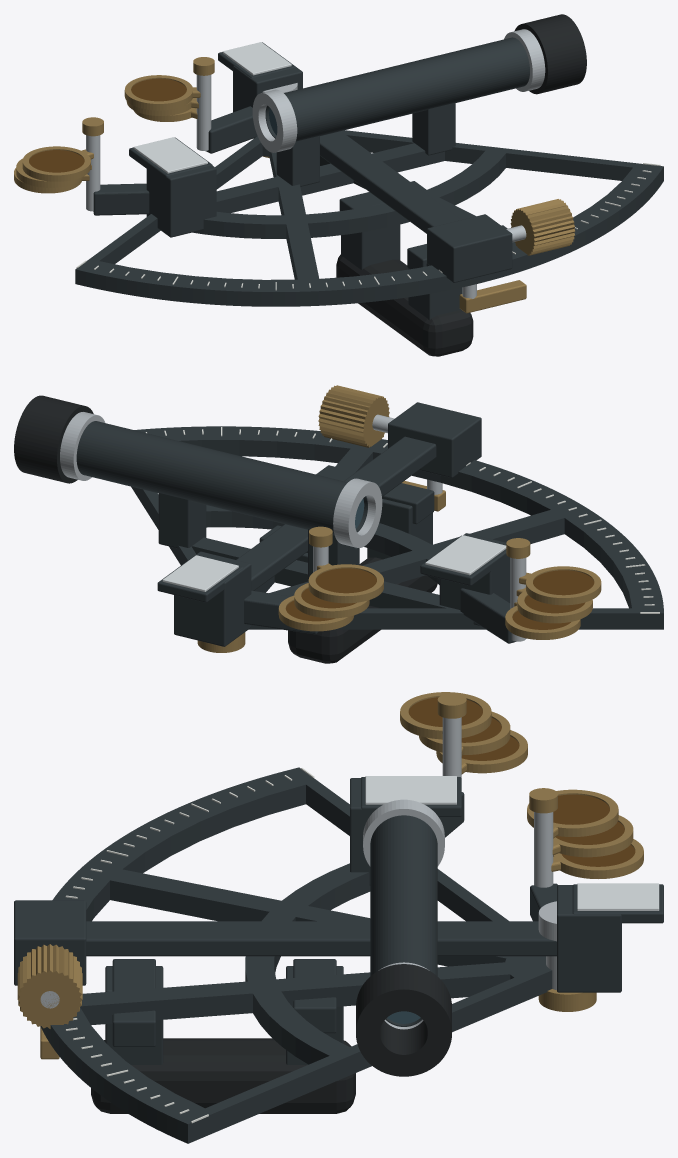
The model's file is A-NEW-20261026-SEXTANT-001_LOD0_R5.glb.
3 renders of one model, top to bottom at view 1: azimuth 30°, elevation 25°; view 2: azimuth 150°, elevation 25°; view 3: azimuth 270°, elevation 25°, orthographic. The views are drawn at different scales.
Visible parts, largest first — view 1: open cast lattice sector frame, telescope hollow barrel, index arm, arc carriage, rear hand grip, horizon mirror foot, rear eyecup, grooved micrometer drum, scope rim, rear grip attachment, scope fixed support.001, scope fixed support (+17 smaller); view 2: open cast lattice sector frame, telescope hollow barrel, index arm, arc carriage, index mirror foot, rear eyecup, grooved micrometer drum, rear hand grip, scope rim, scope fixed support.001, horizon mirror foot, horizon mirror face (+23 smaller); view 3: open cast lattice sector frame, index arm, telescope hollow barrel, rear hand grip, rear eyecup, index mirror foot, grooved micrometer drum, arc carriage, rear grip casting bridge.001, horizon mirror face, index mirror face, rear grip casting bridge (+22 smaller).
Boxes of the visible parts, bbox=[...] form: open cast lattice sector frame: bbox=[75, 130, 663, 306]; telescope hollow barrel: bbox=[265, 37, 529, 141]; index arm: bbox=[320, 131, 461, 233]; arc carriage: bbox=[427, 214, 512, 282]; rear hand grip: bbox=[336, 254, 473, 356]; horizon mirror foot: bbox=[146, 165, 216, 237]; rear eyecup: bbox=[514, 14, 586, 94]; grooved micrometer drum: bbox=[510, 199, 575, 255]; scope rim: bbox=[252, 89, 297, 152]; rear grip attachment: bbox=[341, 224, 400, 269]; scope fixed support.001: bbox=[412, 102, 455, 155]; scope fixed support: bbox=[276, 135, 319, 186]; open cast lattice sector frame: bbox=[131, 426, 663, 629]; telescope hollow barrel: bbox=[76, 421, 367, 535]; index arm: bbox=[236, 436, 436, 590]; arc carriage: bbox=[388, 402, 481, 477]; index mirror foot: bbox=[174, 551, 251, 646]; rear eyecup: bbox=[14, 395, 93, 483]; grooved micrometer drum: bbox=[318, 385, 389, 447]; rear hand grip: bbox=[288, 557, 437, 663]; scope rim: bbox=[333, 478, 382, 547]; scope fixed support.001: bbox=[158, 493, 206, 548]; horizon mirror foot: bbox=[439, 533, 510, 626]; horizon mirror face: bbox=[425, 535, 506, 575]; open cast lattice sector frame: bbox=[40, 767, 552, 1143]; index arm: bbox=[86, 921, 556, 956]; telescope hollow barrel: bbox=[370, 815, 437, 1026]; rear hand grip: bbox=[91, 1038, 355, 1113]; rear eyecup: bbox=[356, 964, 451, 1076]; index mirror foot: bbox=[557, 885, 621, 992]; grooved micrometer drum: bbox=[17, 944, 82, 1028]; arc carriage: bbox=[14, 900, 86, 985]; rear grip casting bridge.001: bbox=[112, 959, 155, 1046]; horizon mirror face: bbox=[365, 776, 456, 804]; index mirror face: bbox=[577, 883, 659, 910]; rear grip casting bridge: bbox=[293, 959, 336, 1033].
Bounding box in the file's own units: 0.3508 × 0.122 × 0.27.
